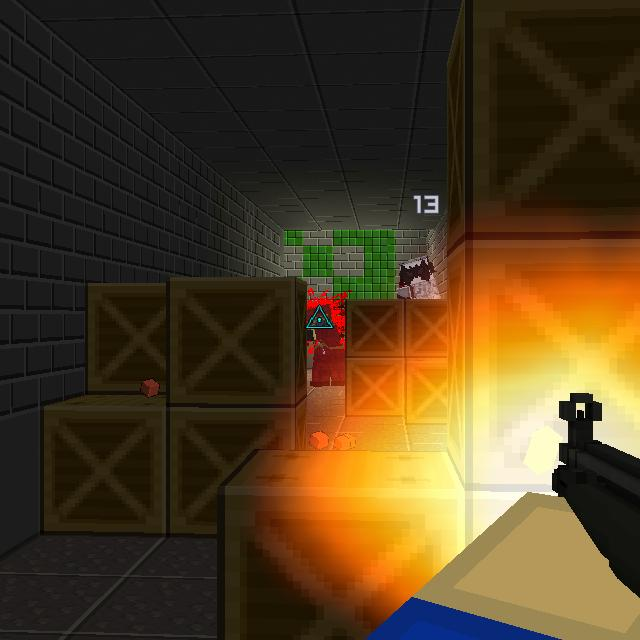enemy: (304, 300, 348, 387), (396, 256, 442, 301)
